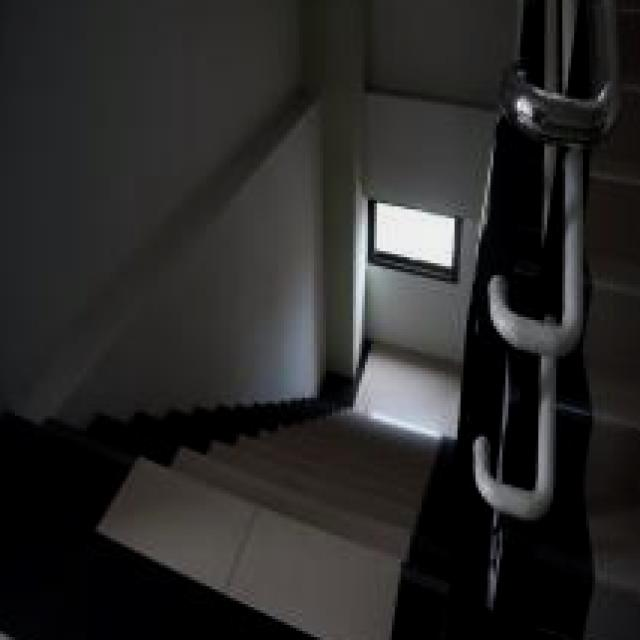downstair: (85, 300, 438, 640)
